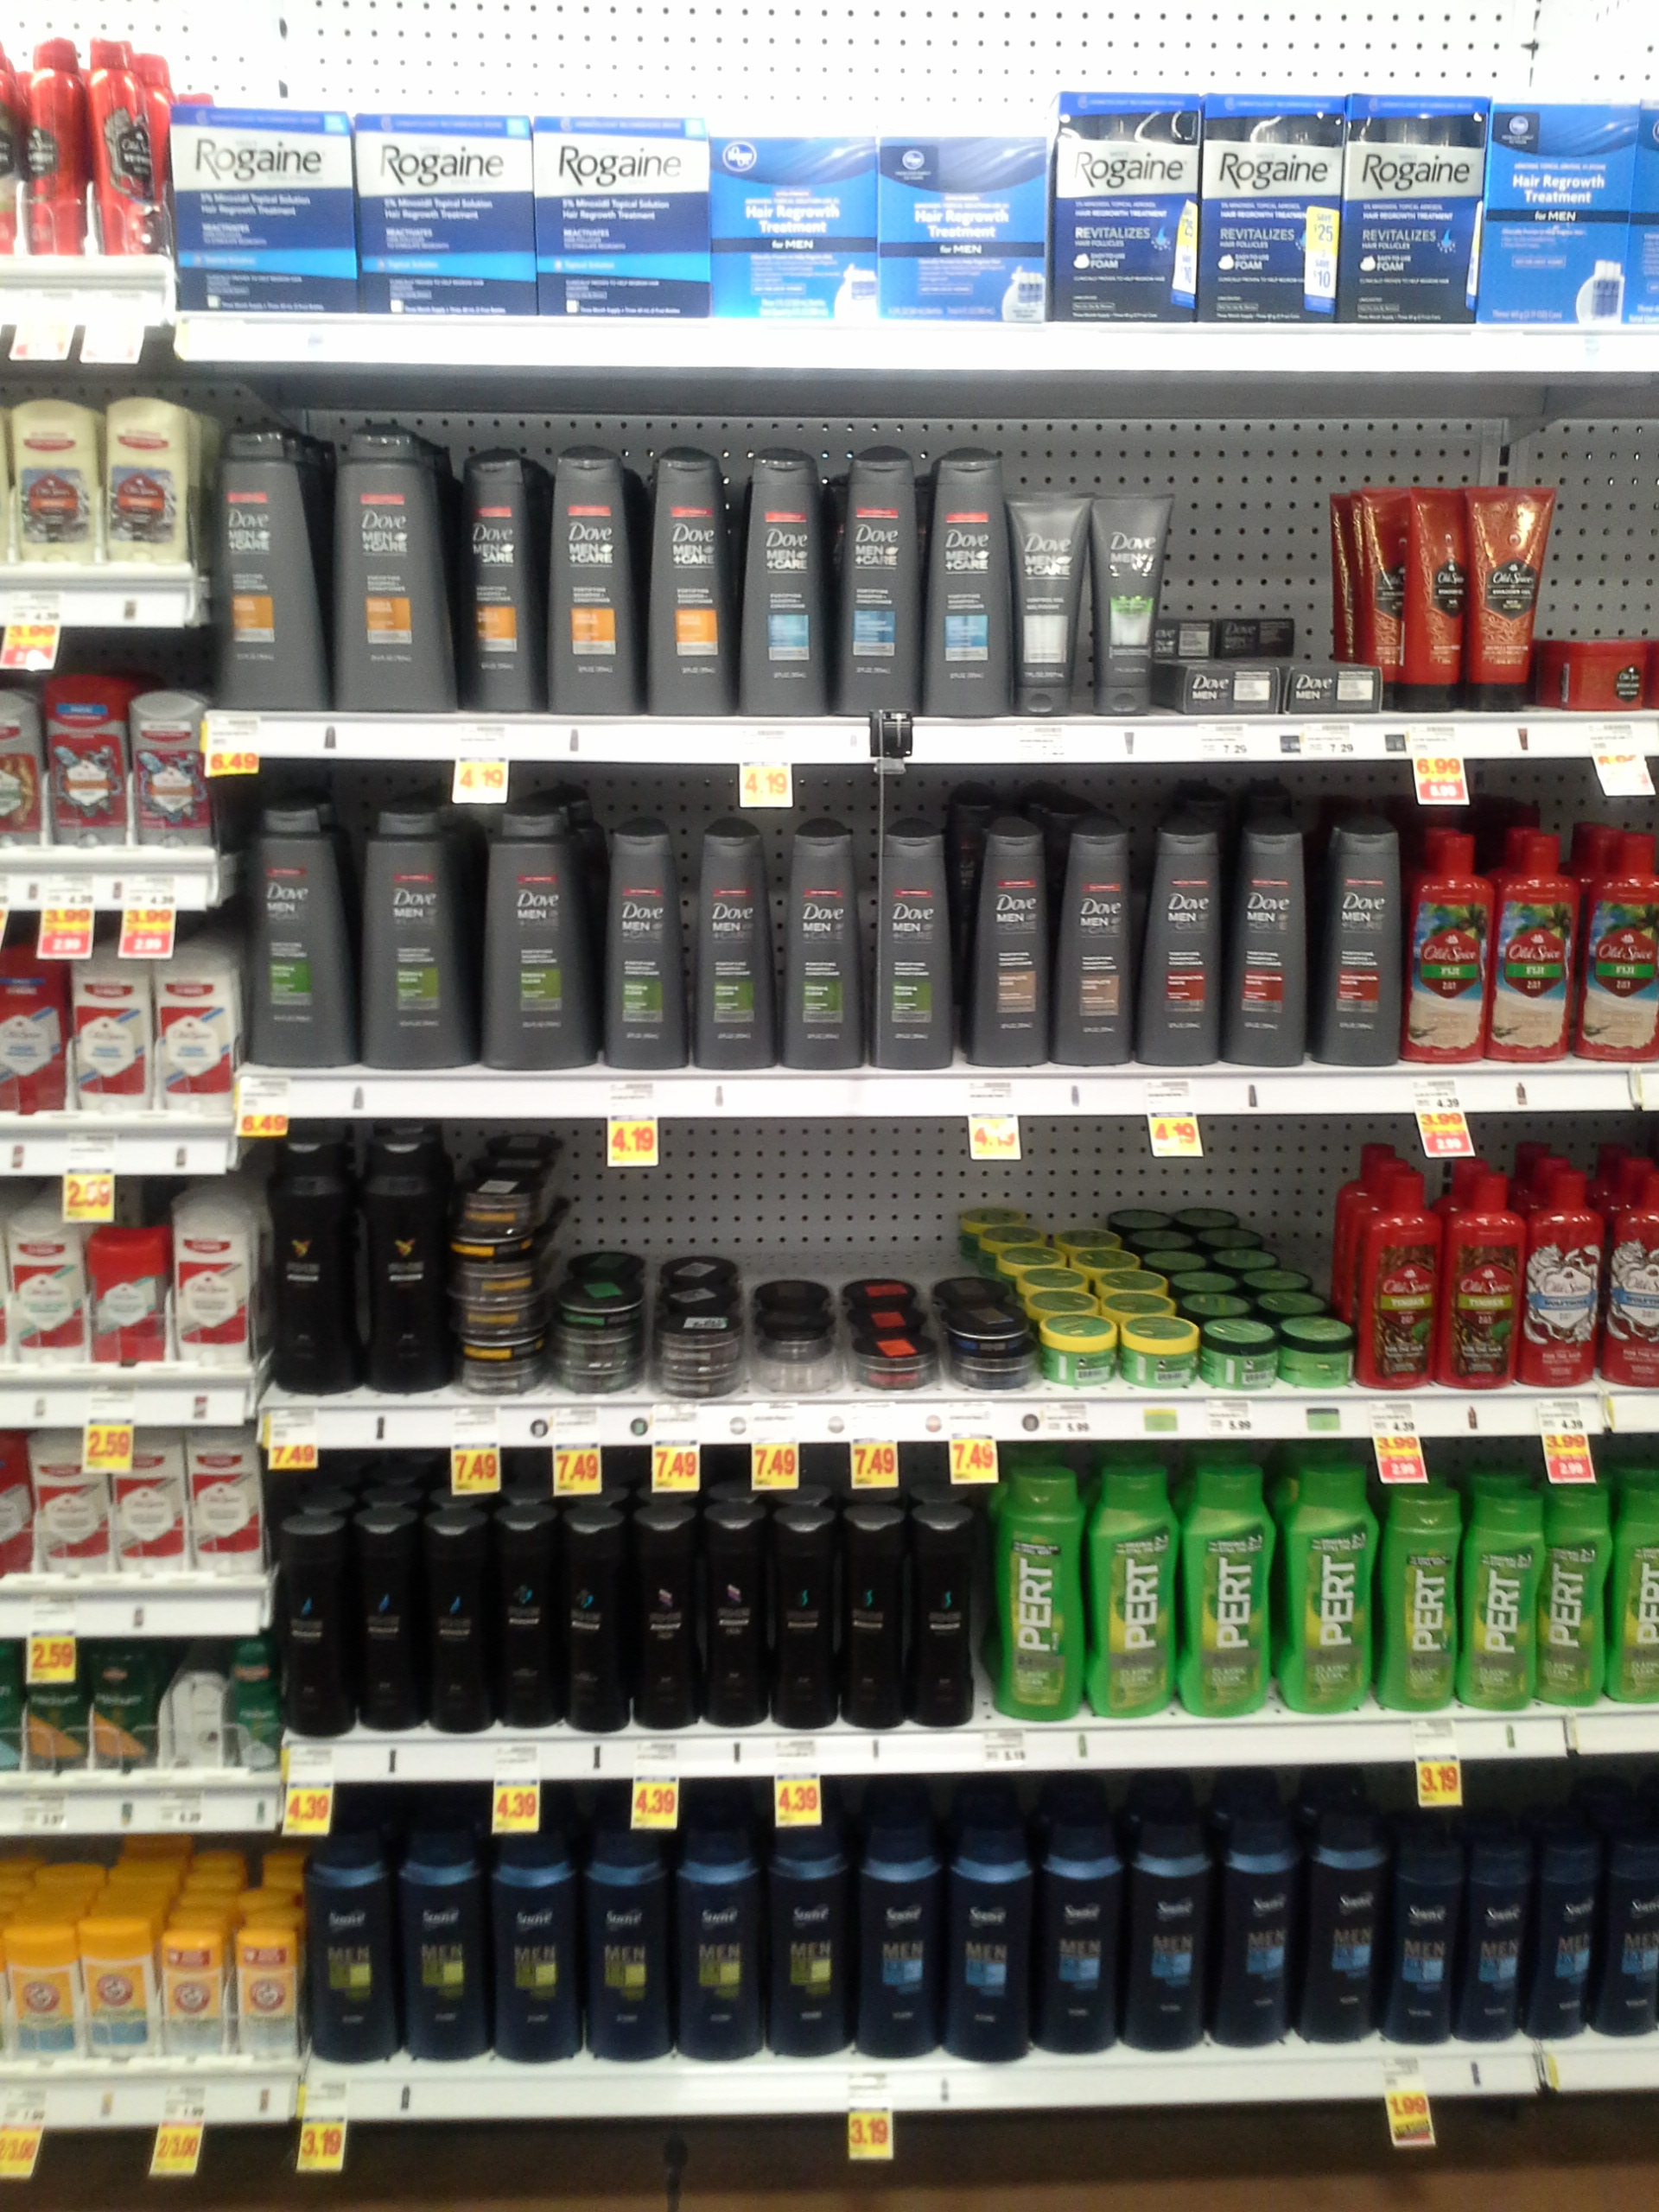product: (171, 64, 349, 314), (535, 106, 711, 324), (352, 105, 535, 312), (1340, 84, 1490, 327), (1490, 84, 1638, 329), (474, 786, 598, 1075), (1049, 91, 1201, 322), (220, 409, 333, 716), (877, 125, 1049, 322), (333, 421, 448, 716), (1199, 89, 1340, 326), (709, 125, 877, 324), (362, 784, 474, 1073), (253, 784, 359, 1075), (636, 427, 734, 718), (734, 435, 831, 718), (544, 427, 636, 718), (1276, 1449, 1377, 1714), (852, 1789, 950, 2060), (1035, 1796, 1131, 2067), (866, 799, 960, 1071), (831, 437, 922, 718), (596, 805, 690, 1075), (993, 1456, 1087, 1726), (491, 1791, 582, 2066), (1138, 803, 1230, 1073), (922, 448, 1014, 718), (669, 1796, 762, 2064), (1180, 1449, 1272, 1714), (762, 1796, 852, 2062), (779, 799, 866, 1075), (1211, 1806, 1309, 2052), (950, 1791, 1035, 2069), (692, 803, 779, 1075), (582, 1792, 669, 2064), (307, 1808, 399, 2064), (1314, 810, 1405, 1069), (268, 1137, 361, 1392), (1087, 1456, 1178, 1714), (401, 1810, 491, 2067), (460, 434, 542, 718), (1230, 803, 1316, 1071), (1406, 810, 1493, 1071), (969, 805, 1054, 1071), (1495, 819, 1584, 1071), (361, 1137, 450, 1388), (1054, 805, 1136, 1075), (1469, 472, 1556, 714), (1377, 1468, 1462, 1714), (1014, 446, 1089, 716), (1131, 1797, 1209, 2052), (1521, 1157, 1603, 1392), (1358, 1165, 1443, 1388), (105, 385, 204, 577), (1309, 1806, 1387, 2048), (763, 1484, 838, 1730), (1584, 819, 1659, 1062), (1539, 1461, 1612, 1709), (281, 1498, 357, 1731), (1464, 1468, 1539, 1707), (1441, 1165, 1520, 1390), (1089, 488, 1169, 707), (1396, 472, 1469, 712), (1525, 1818, 1603, 2041), (129, 658, 218, 853), (153, 911, 237, 1118), (910, 1487, 983, 1724), (87, 16, 159, 258), (429, 1486, 497, 1737), (12, 383, 105, 564), (627, 1493, 697, 1731), (17, 16, 87, 254), (71, 911, 153, 1113), (359, 1500, 429, 1737), (497, 1486, 563, 1731), (45, 658, 129, 852), (697, 1484, 762, 1733), (1387, 1832, 1462, 2047), (840, 1487, 906, 1730), (563, 1494, 627, 1733), (0, 1202, 92, 1367), (176, 1186, 253, 1371), (75, 1898, 157, 2069), (0, 918, 71, 1111), (28, 1416, 115, 1573), (1603, 1157, 1659, 1395), (1464, 1834, 1527, 2041), (188, 1413, 267, 1576), (0, 1900, 75, 2064), (228, 1912, 307, 2064), (92, 1219, 171, 1367), (115, 1413, 186, 1575), (157, 1912, 228, 2067), (1605, 1818, 1656, 2033), (1614, 1461, 1657, 1707), (19, 1637, 89, 1773), (1565, 618, 1659, 716), (0, 655, 45, 853), (87, 1637, 153, 1770), (1117, 1298, 1202, 1395), (1039, 1296, 1117, 1395), (758, 1315, 849, 1395), (1202, 1301, 1277, 1395), (1277, 1303, 1356, 1392), (1283, 657, 1385, 718), (227, 1630, 272, 1768), (948, 1285, 1033, 1357), (1178, 657, 1283, 712), (549, 1268, 645, 1325), (854, 1331, 941, 1392), (448, 1181, 544, 1231), (0, 1426, 28, 1575), (652, 1320, 749, 1362), (451, 1259, 542, 1301), (1218, 608, 1300, 653), (948, 1355, 1039, 1395), (549, 1325, 645, 1362), (652, 1360, 744, 1395), (450, 1299, 542, 1334), (451, 1360, 547, 1393), (549, 1362, 645, 1392), (448, 1231, 542, 1259), (451, 1332, 542, 1359), (1169, 608, 1218, 653)
